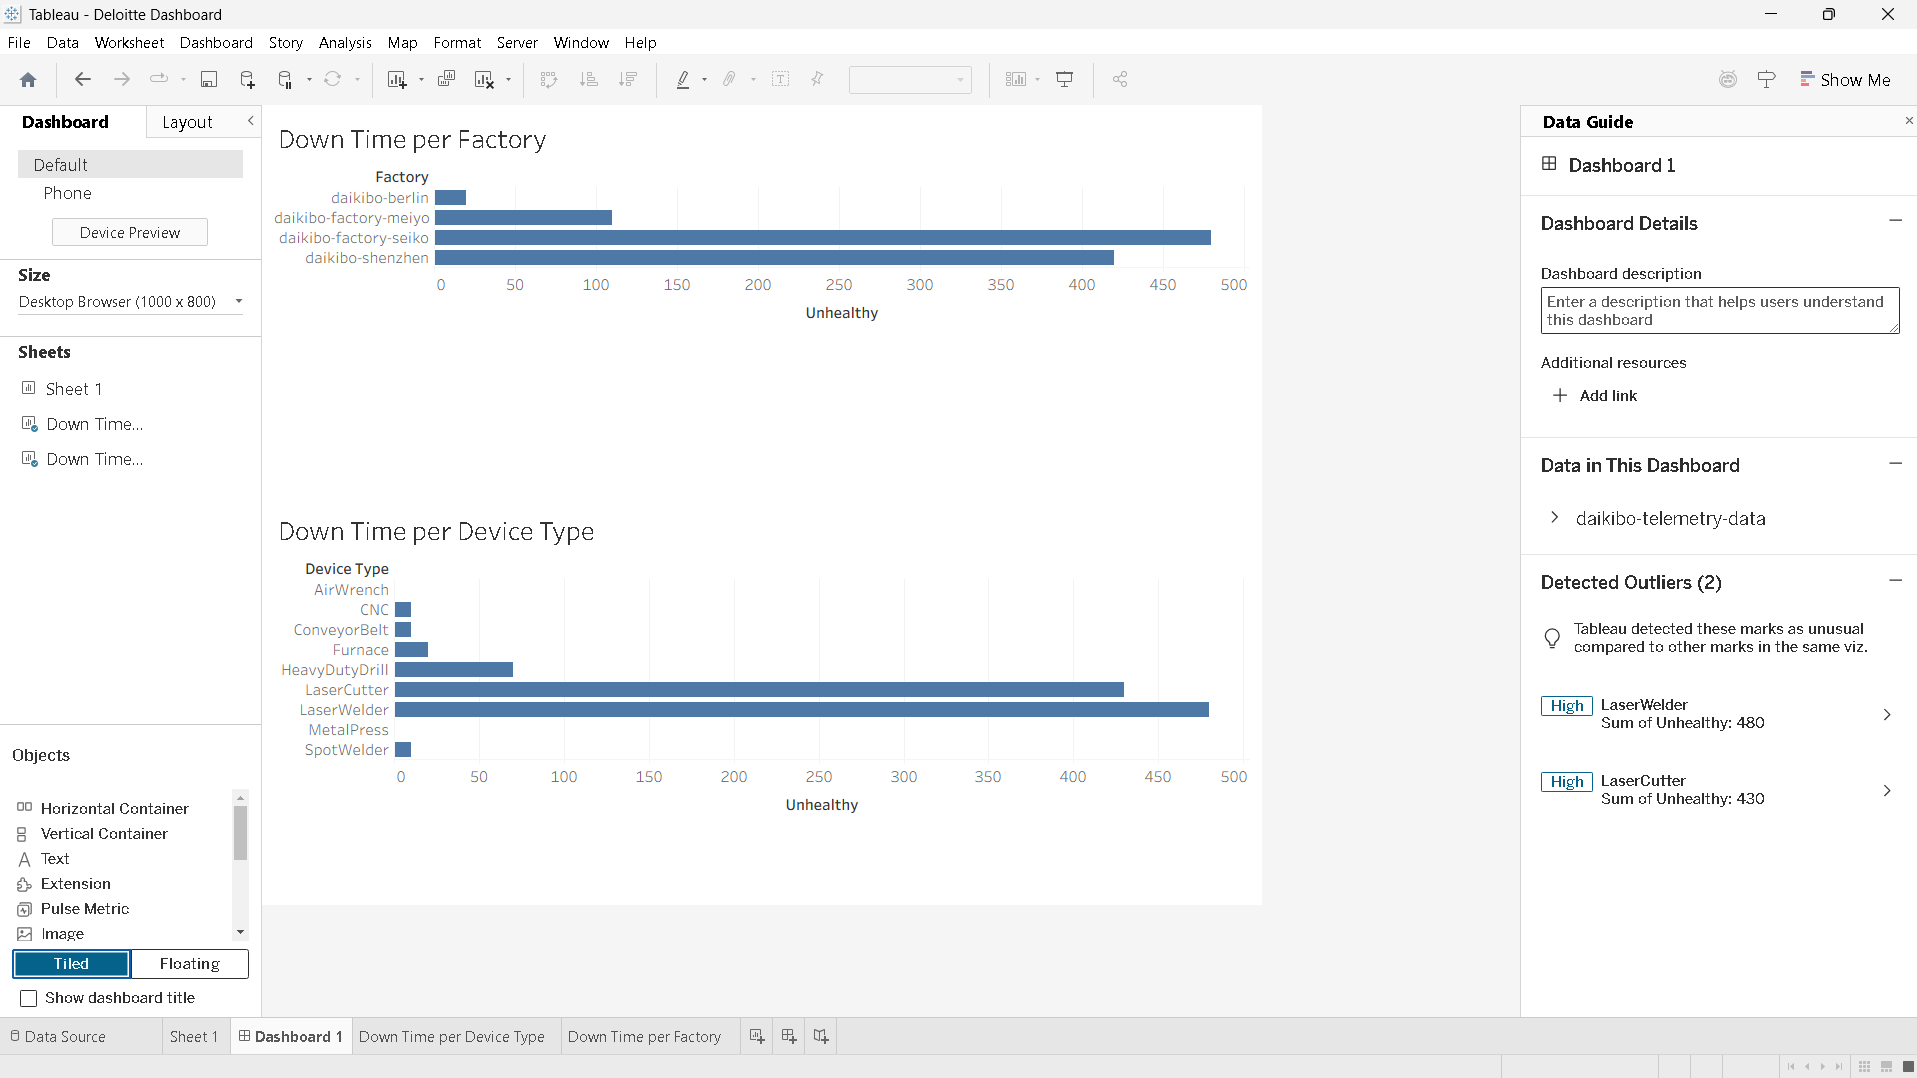

Layout of this report page (visuals, bound fields, positions):
{"tool":"tableau","page":{"name":"Dashboard 1","canvas":[1000,800],"ordinal":0},"visuals":[{"type":"worksheet","title":"Down Time per Factory","mark":"Automatic","rows":["factory"],"cols":["Calculation_1768032180019201"],"box":[8,8,984,392]},{"type":"worksheet","title":"Down Time per Device Type","mark":"Automatic","rows":["deviceType"],"cols":["Calculation_1768032180019201"],"box":[8,400,984,392]}]}

Visuals, with their boxes on the page's 1000x800 design canvas (x1, y1, x2, y2). These are canvas units, not pixel positions in the 1917x1078 screenshot, which may show the page scaled, cropped or inside an application window:
"Down Time per Factory" worksheet: bbox(8, 8, 992, 400)
"Down Time per Device Type" worksheet: bbox(8, 400, 992, 792)
